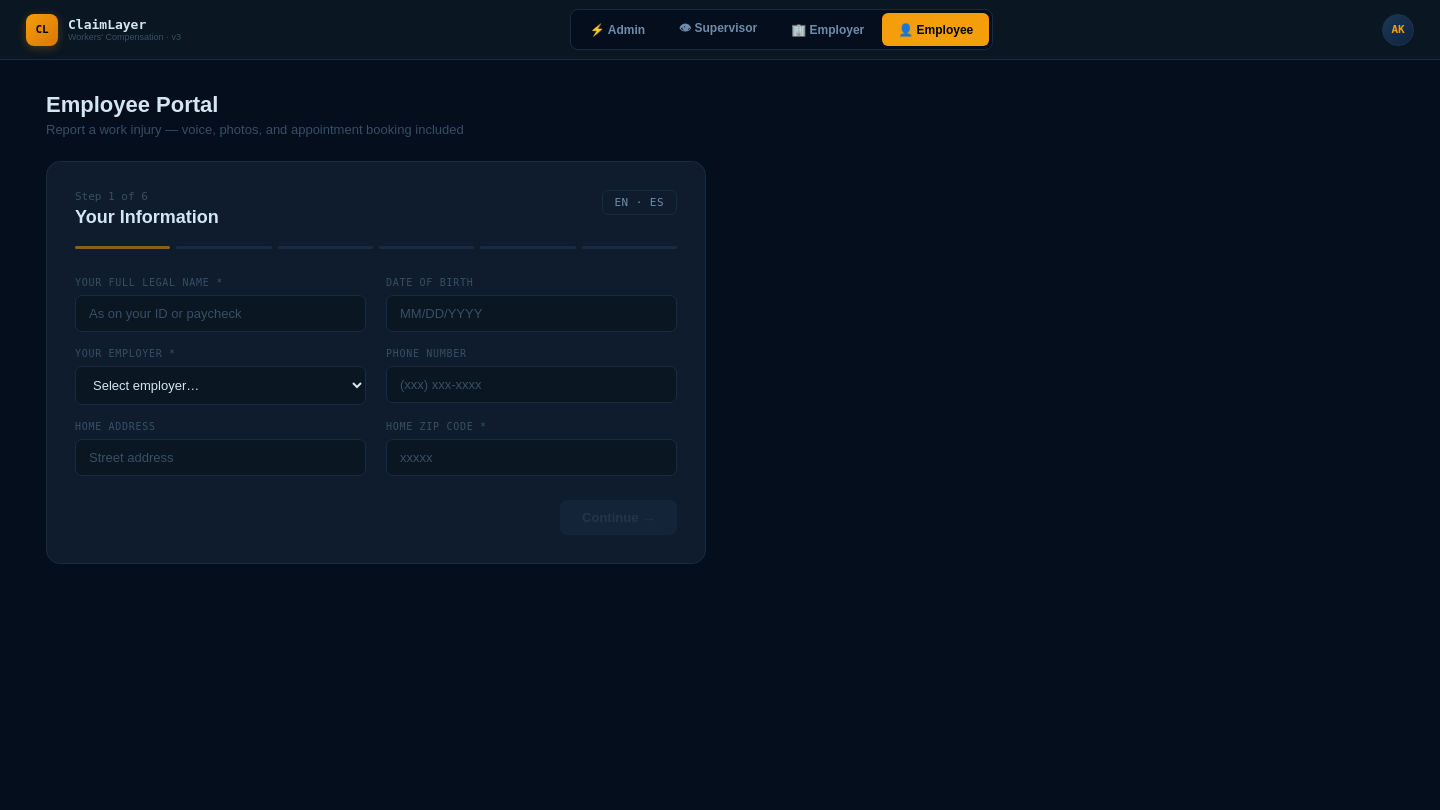
Test: App smoke (post-modularization wiring) › the supervisor role establishes its own session and renders the digest panel
Click the button "👁 Supervisor": (718, 30) [663,13,773,46]
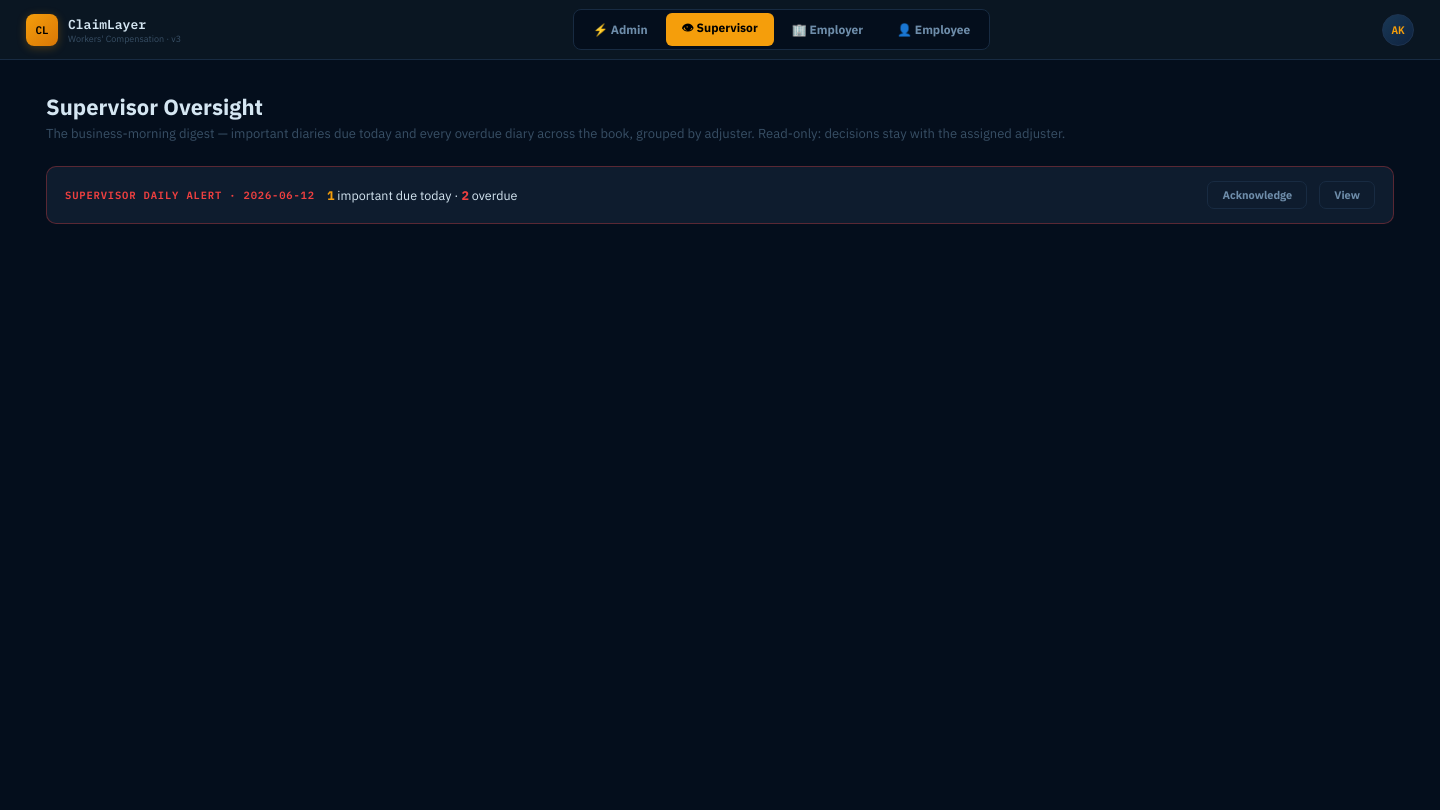
Result: the heading "Supervisor Oversight" is shown at [46,92,263,121]
Result: the element with test id "sup-counts" reads "1 important due today · 2 overdue" at [327,187,517,203]
